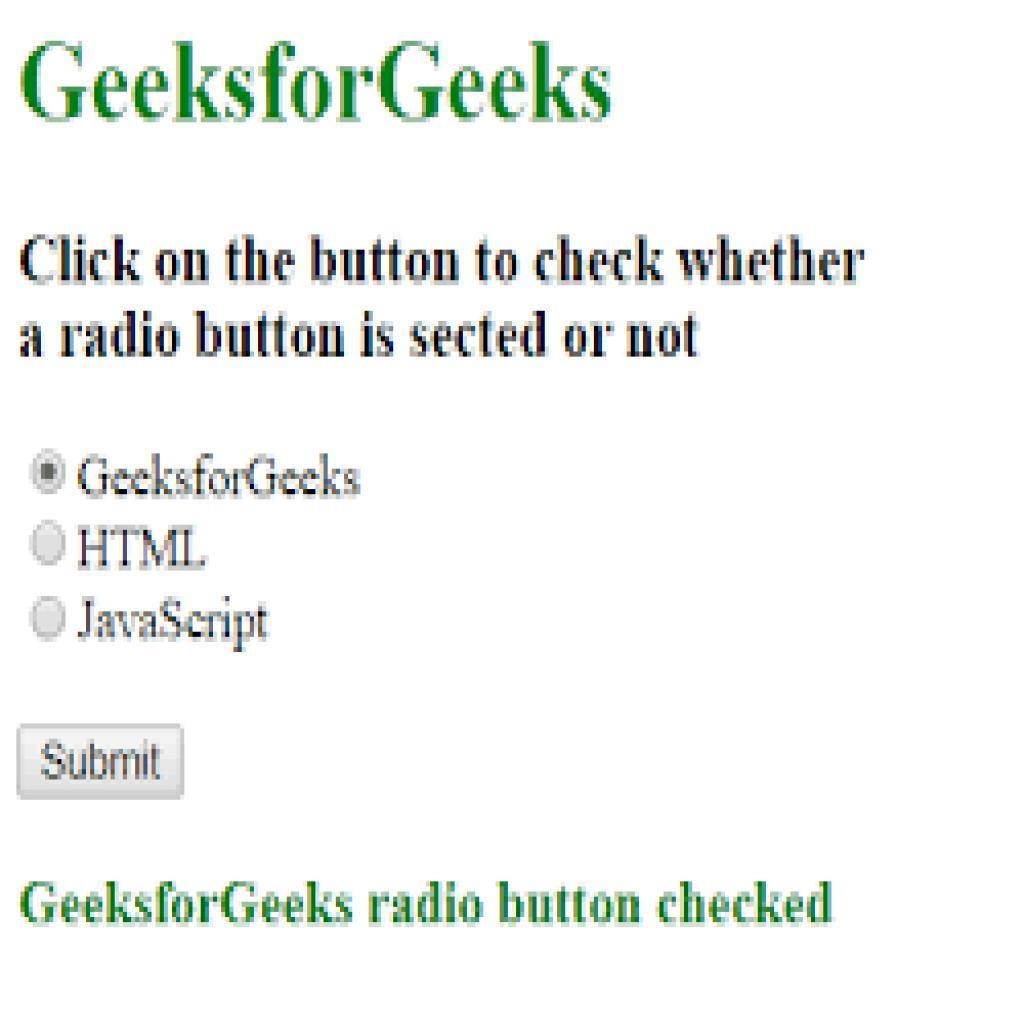button: (17, 724, 185, 801)
label: (17, 37, 618, 135), (74, 450, 370, 508), (76, 595, 269, 659), (77, 520, 213, 576)
radio: (27, 591, 68, 646), (29, 521, 70, 570), (30, 447, 68, 495)
